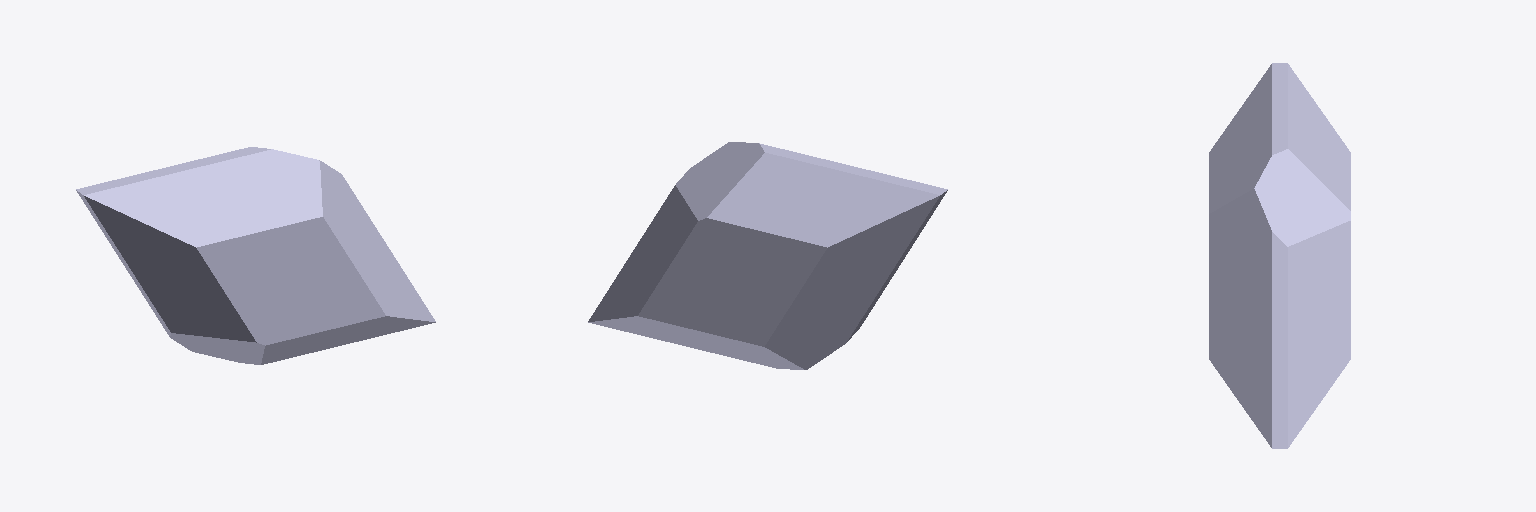
File: corundum.obj
3 renders of one model, left to right at view 1: azimuth 30°, elevation 25°; view 2: azimuth 150°, elevation 25°; view 3: azimuth 270°, elevation 25°, orthographic.
Bounding box in the file's own units: 3.46 × 2 × 1.2.